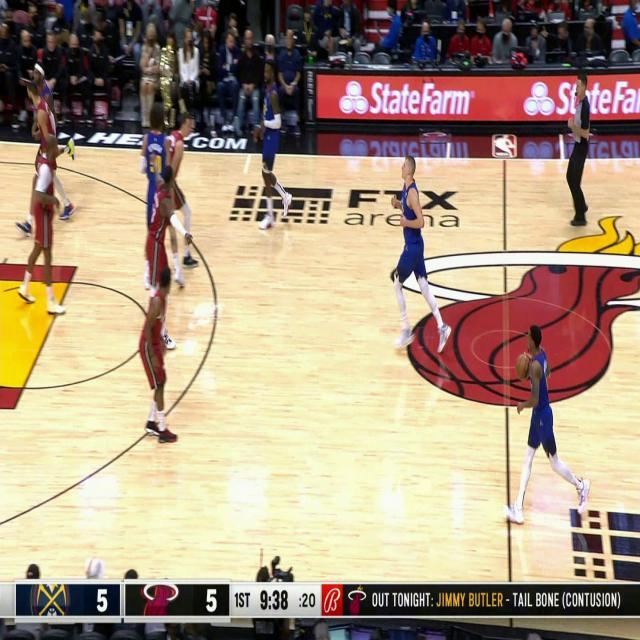rim: (516, 353, 530, 381)
